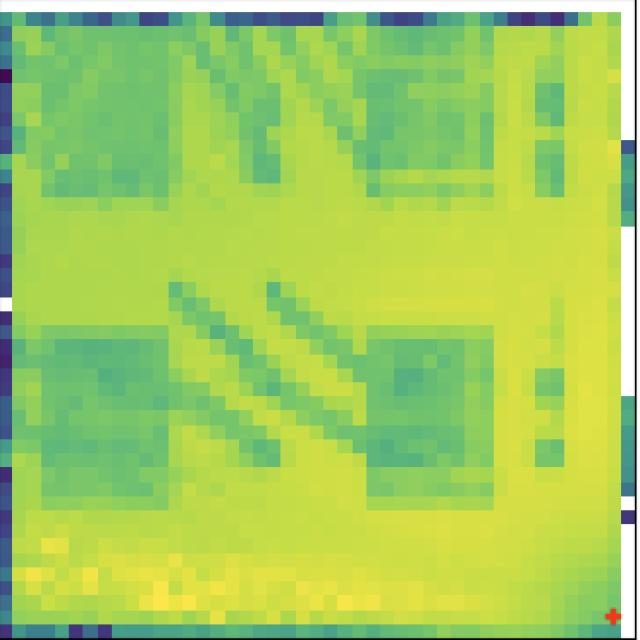Concrete: (366, 322, 496, 512)
Glass: (40, 323, 177, 511)
Metal: (363, 35, 496, 206)
Wood: (41, 27, 180, 205)
